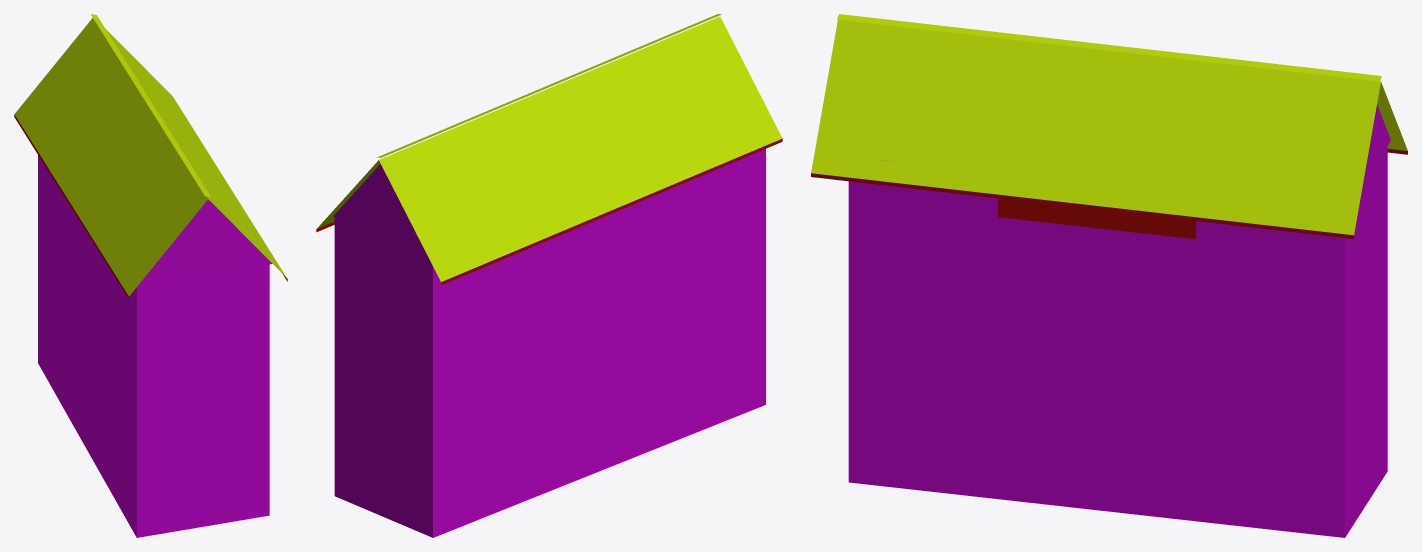
Rendered from bgj_337.glb.
The picture shows the model from 3 angles, left to right: view 1: azimuth 30°, elevation 25°; view 2: azimuth 150°, elevation 25°; view 3: azimuth 270°, elevation 25°; orthographic projection. The views are drawn at different scales.
Visible parts, largest first — view 1: bgj_337; view 2: bgj_337; view 3: bgj_337.
Part boxes in pixels (<box>): bgj_337: <box>14,14,287,537</box>; bgj_337: <box>316,14,782,537</box>; bgj_337: <box>811,14,1407,537</box>.
Bounding box in the file's own units: 10.05 × 13.66 × 17.33.
